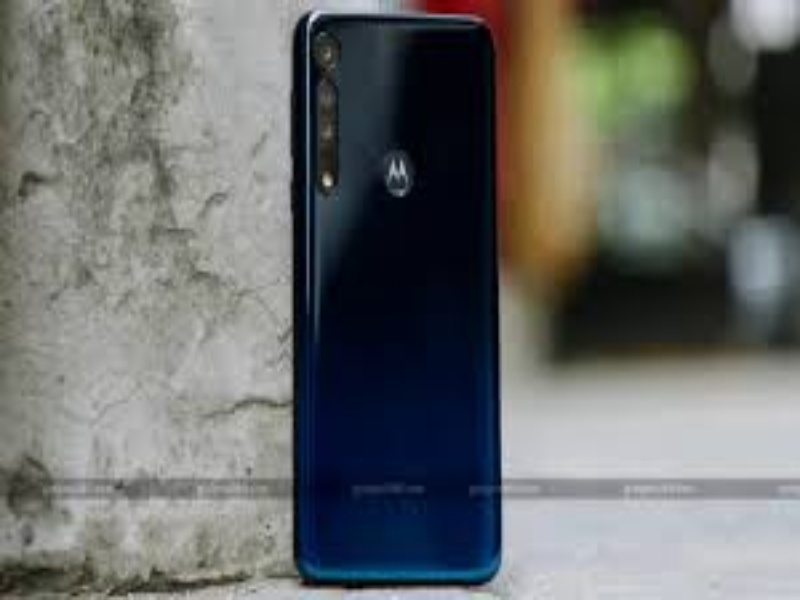mobile: (273, 5, 517, 591)
